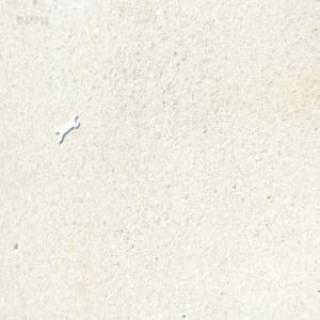Wrenchtrack_idkeyframe: (54, 112, 78, 146)
